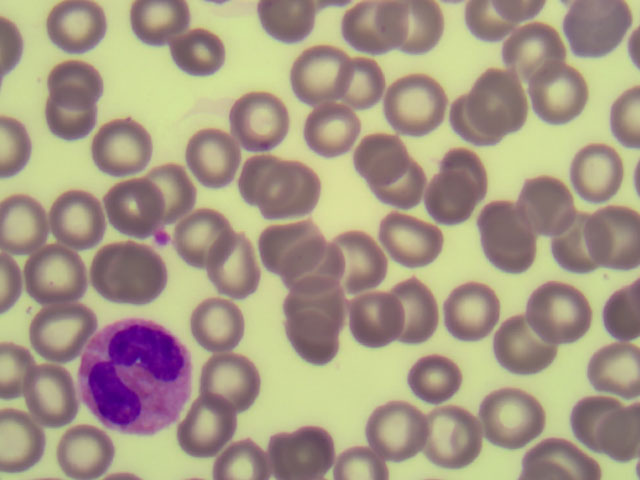Platelets: (151, 225, 168, 243)
RBC: (46, 425, 108, 480), (213, 425, 275, 480), (42, 58, 104, 112), (36, 92, 98, 146), (93, 123, 155, 177), (94, 180, 156, 234), (40, 193, 102, 247), (4, 198, 66, 252), (23, 246, 85, 300), (29, 296, 91, 350), (17, 369, 79, 423), (167, 405, 229, 459), (200, 355, 262, 409), (183, 296, 245, 350), (206, 247, 268, 301), (175, 207, 237, 261), (153, 160, 215, 214), (185, 129, 247, 183), (225, 93, 287, 147), (174, 27, 236, 81), (229, 155, 291, 209), (267, 166, 329, 220), (256, 218, 318, 272), (272, 246, 334, 300), (276, 276, 338, 330), (284, 307, 346, 361), (341, 292, 403, 346), (381, 289, 443, 343), (324, 225, 386, 279), (378, 224, 440, 278), (377, 161, 439, 215), (347, 127, 409, 181), (301, 104, 363, 158), (328, 66, 390, 120), (295, 47, 357, 101), (338, 7, 400, 61), (400, 1, 462, 55), (390, 74, 452, 128), (441, 92, 503, 146), (479, 73, 541, 127), (493, 23, 555, 77), (531, 66, 593, 120), (564, 142, 626, 196), (516, 175, 578, 229), (475, 211, 537, 265), (430, 137, 492, 191), (420, 166, 482, 220), (444, 285, 506, 339), (499, 320, 561, 374), (530, 284, 592, 338), (539, 225, 601, 279), (578, 207, 640, 261), (578, 347, 640, 401), (567, 389, 629, 443), (481, 389, 543, 443), (420, 405, 482, 459), (362, 396, 424, 450), (404, 350, 466, 404), (280, 424, 342, 478), (45, 1, 107, 54), (126, 1, 188, 54)
WBC: (86, 310, 190, 444)
